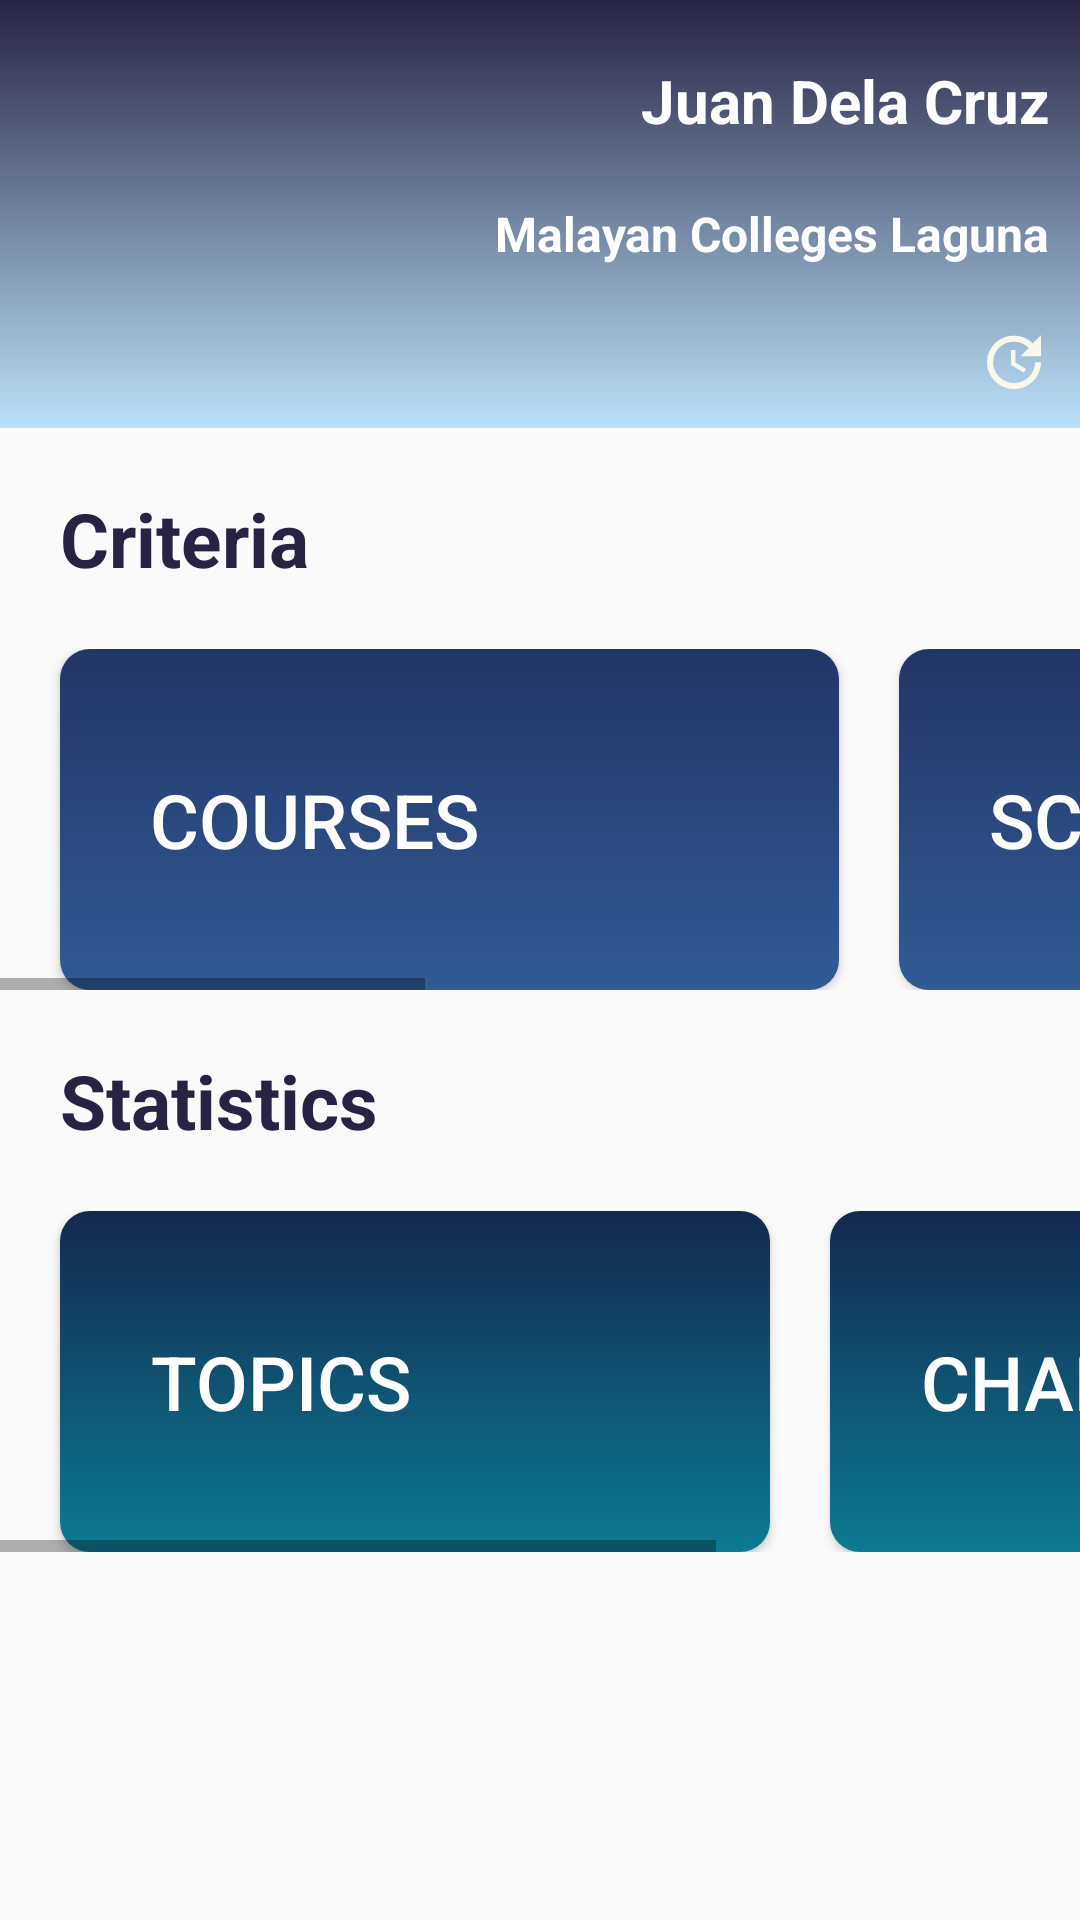

Icons on this 1080 x 1920 Android screen, each with the point to tap as point (x, y):
update: point (1014, 362)
